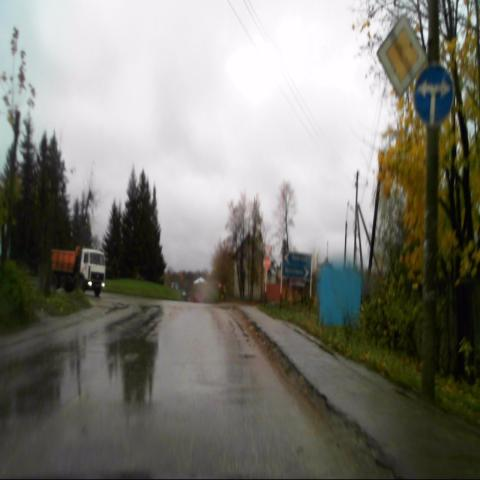4_1_6: (414, 65, 454, 126)
